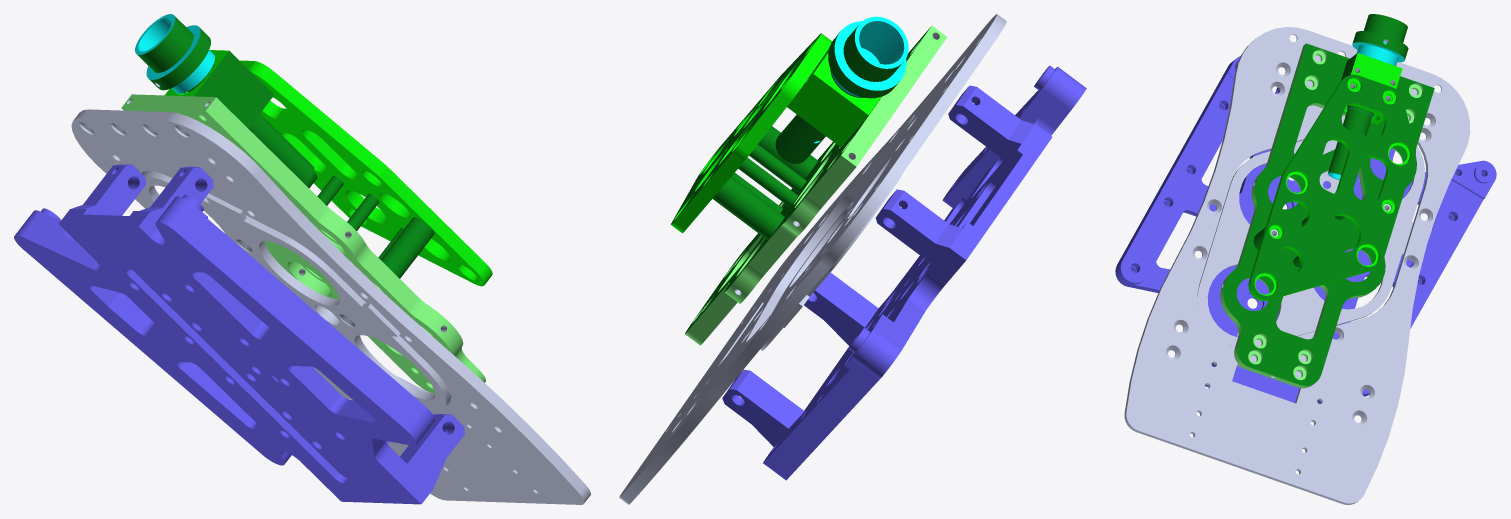
3 renders of one model, left to right at view 1: azimuth 30°, elevation 25°; view 2: azimuth 150°, elevation 25°; view 3: azimuth 270°, elevation 25°, orthographic. The views are drawn at different scales.
Parts seen in each view (by area): view 1: Actor11, Actor9, Actor6, Actor7, Actor10, Actor1, Actor2, Actor3; view 2: Actor11, Actor9, Actor7, Actor1, Actor6, Actor2, Actor10, Actor5, Actor4, Actor8, Actor3; view 3: Actor9, Actor7, Actor11, Actor6, Actor10, Actor1, Actor2.
Part boxes in pixels (bbox=[...]): Actor11: bbox=[14, 164, 464, 504]; Actor9: bbox=[71, 109, 590, 504]; Actor6: bbox=[240, 60, 492, 286]; Actor7: bbox=[121, 94, 485, 393]; Actor10: bbox=[140, 170, 451, 408]; Actor1: bbox=[135, 14, 314, 183]; Actor2: bbox=[165, 50, 273, 128]; Actor3: bbox=[380, 217, 434, 278]; Actor11: bbox=[722, 65, 1086, 480]; Actor9: bbox=[619, 14, 1006, 504]; Actor7: bbox=[685, 25, 946, 345]; Actor1: bbox=[775, 16, 908, 163]; Actor6: bbox=[671, 33, 831, 233]; Actor2: bbox=[787, 48, 881, 147]; Actor10: bbox=[760, 149, 901, 350]; Actor5: bbox=[712, 177, 784, 239]; Actor4: bbox=[738, 157, 798, 206]; Actor8: bbox=[749, 144, 806, 191]; Actor3: bbox=[758, 126, 817, 178]; Actor9: bbox=[1124, 27, 1470, 504]; Actor7: bbox=[1220, 43, 1434, 388]; Actor11: bbox=[1115, 56, 1496, 403]; Actor6: bbox=[1248, 74, 1415, 301]; Actor10: bbox=[1197, 140, 1424, 346]; Actor1: bbox=[1328, 14, 1408, 180]; Actor2: bbox=[1341, 53, 1402, 124].
Bounding box in the file's own units: 0.0919 × 0.1281 × 0.1108.
